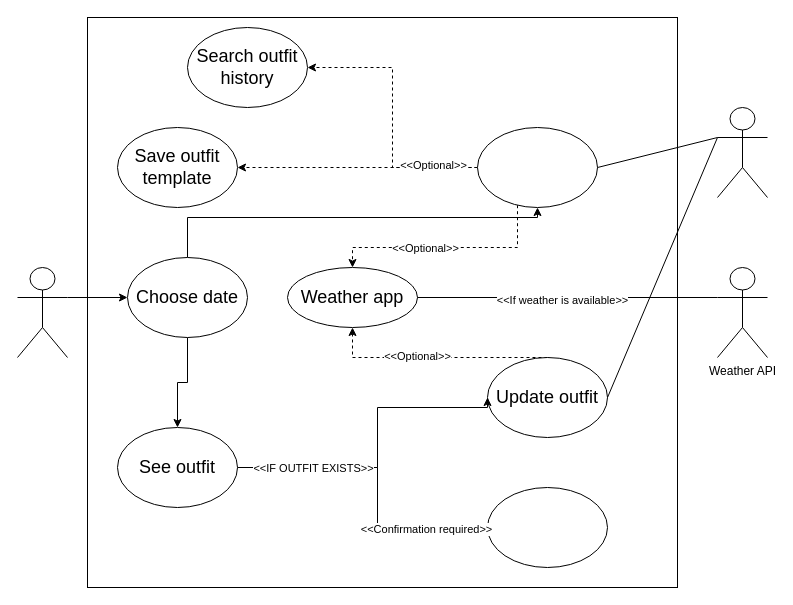
This 793x605 diagram has some shape labels left out. Here are the shapes that lost their labels. From the top down, the centre of each, then its label:
the point at 537,167: Add outfit
the point at 742,152: Outfit list
the point at 42,312: User
the point at 547,527: Delete outfit
